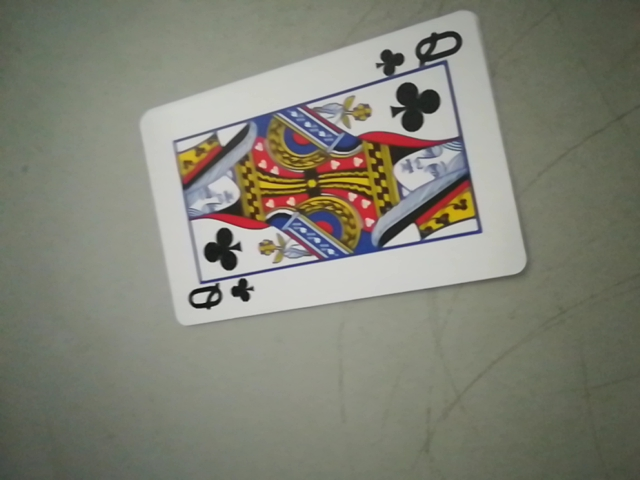mh q: (375, 24, 468, 77), (181, 267, 259, 324)
